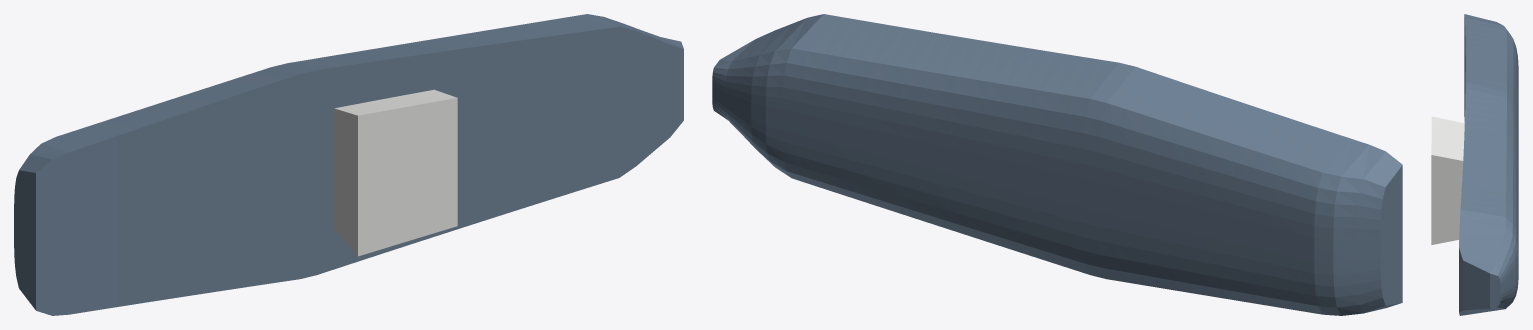
File: loft-open-highside.glb
The picture shows the model from 3 angles, left to right: view 1: azimuth 30°, elevation 25°; view 2: azimuth 150°, elevation 25°; view 3: azimuth 270°, elevation 25°; orthographic projection. The views are drawn at different scales.
Visible parts, largest first — view 1: loft-open-highside; view 2: loft-open-highside; view 3: loft-open-highside.
Part boxes in pixels (left/top/right/bottom): loft-open-highside: left=14, top=14, right=683, bottom=315; loft-open-highside: left=712, top=14, right=1402, bottom=315; loft-open-highside: left=1431, top=14, right=1518, bottom=315.
Size of the model in its own units: 1.7 by 0.5025 by 0.2753.
